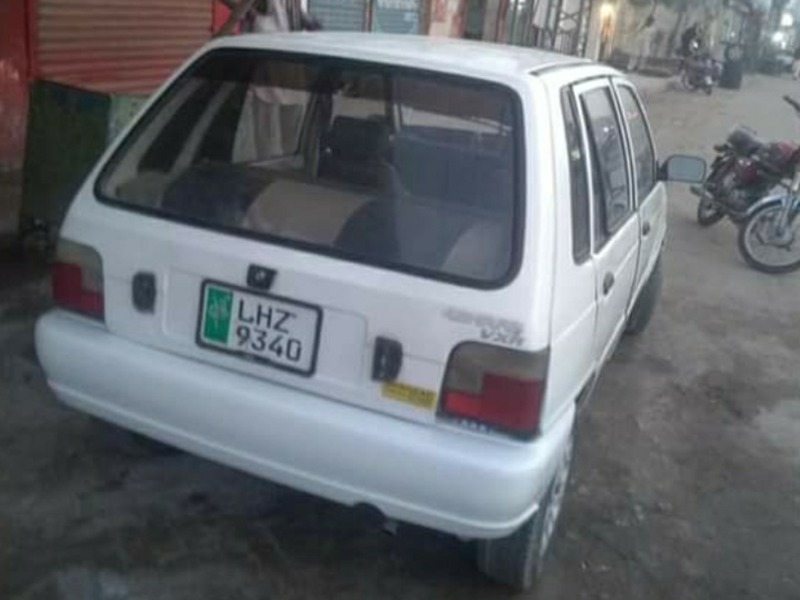License Plate: (193, 275, 323, 378)
